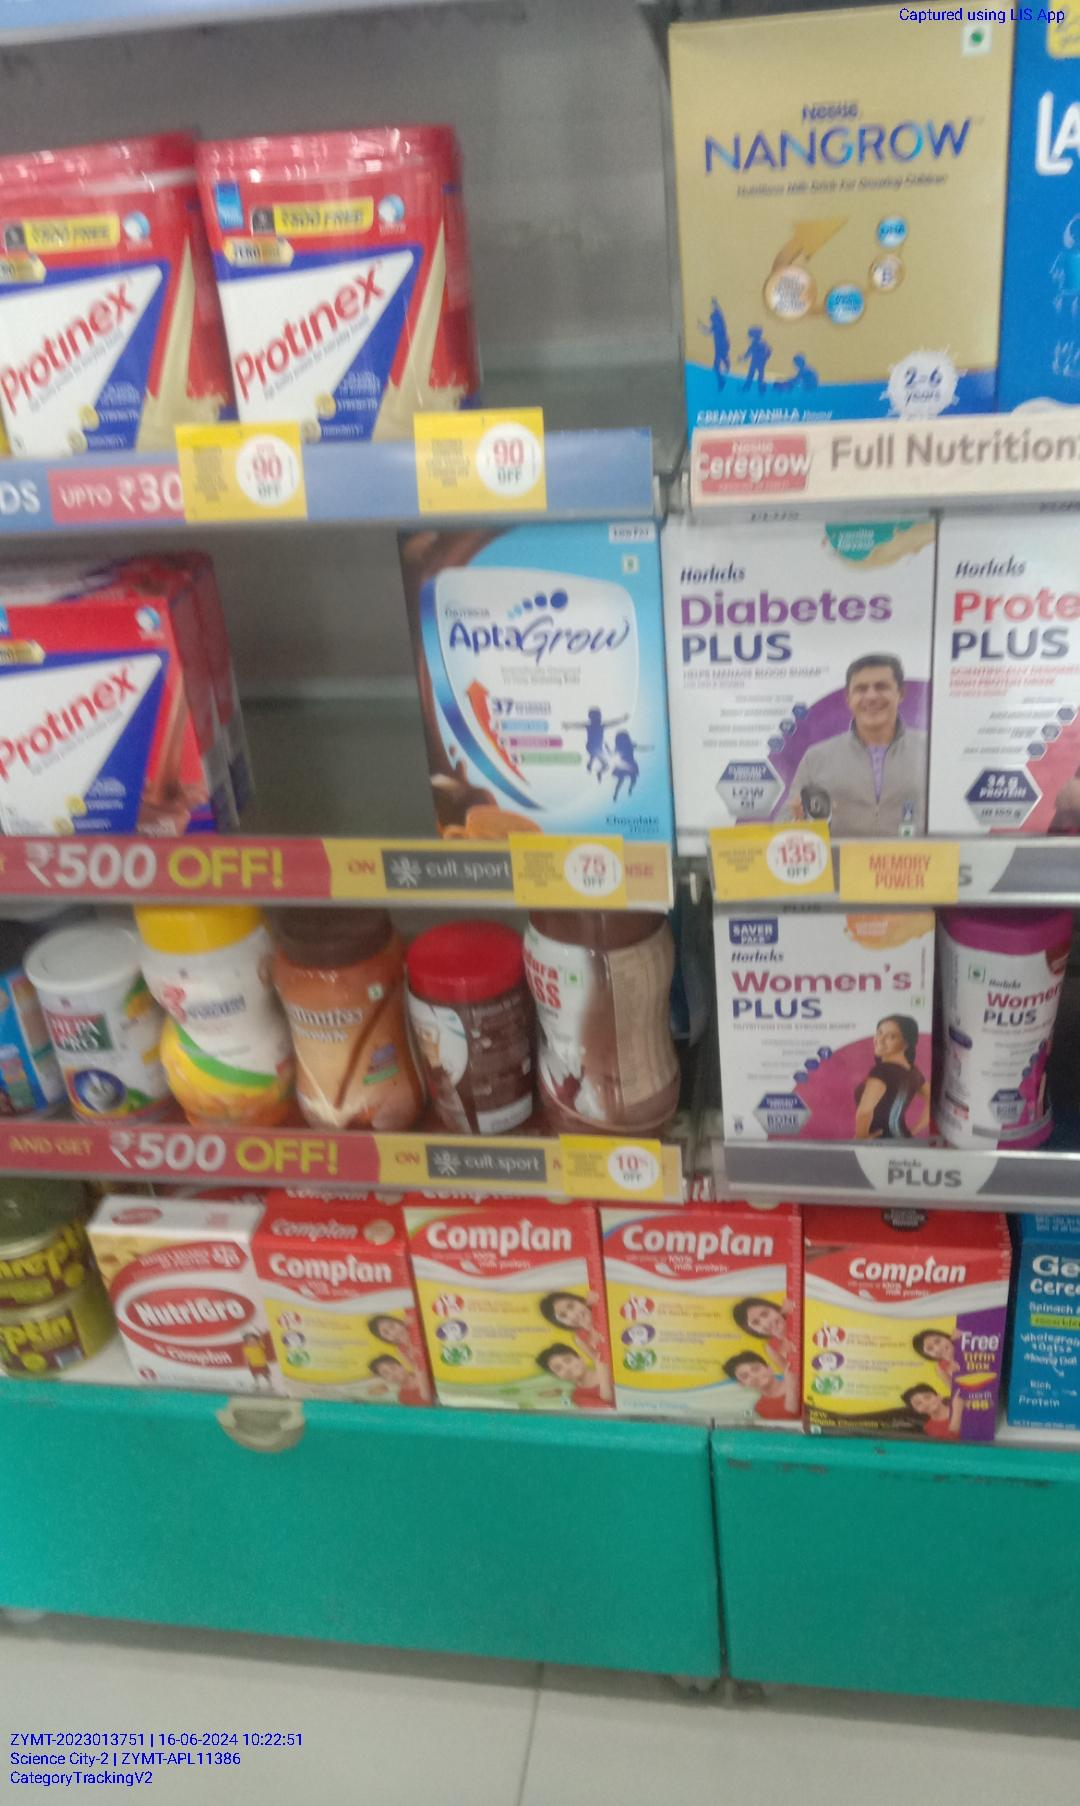COMPLAN_CREAMY_CLASSIC_500_G_PACK: (612, 1208, 800, 1420)
COMPLAN_KESAR_BADAM_200_GMS_PACK: (269, 1243, 408, 1400)
COMPLAN_PISTA_BADAM_500_GMS_PACK: (422, 1206, 606, 1411)
PROTINEX_VANILLA_400_G_JAR: (225, 134, 462, 415), (1, 143, 207, 420)
